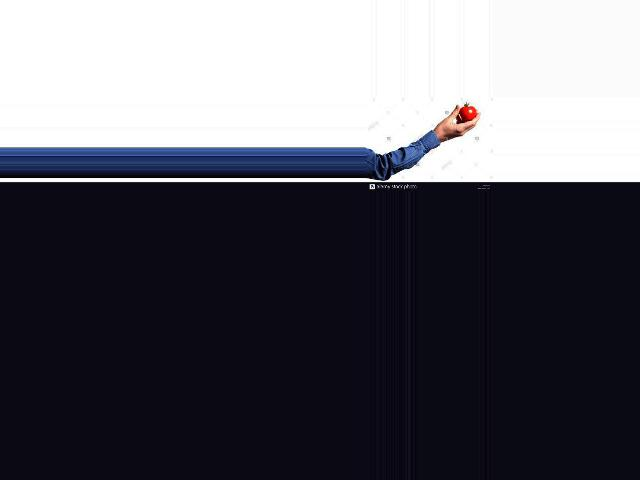tomato: (460, 106, 477, 120)
